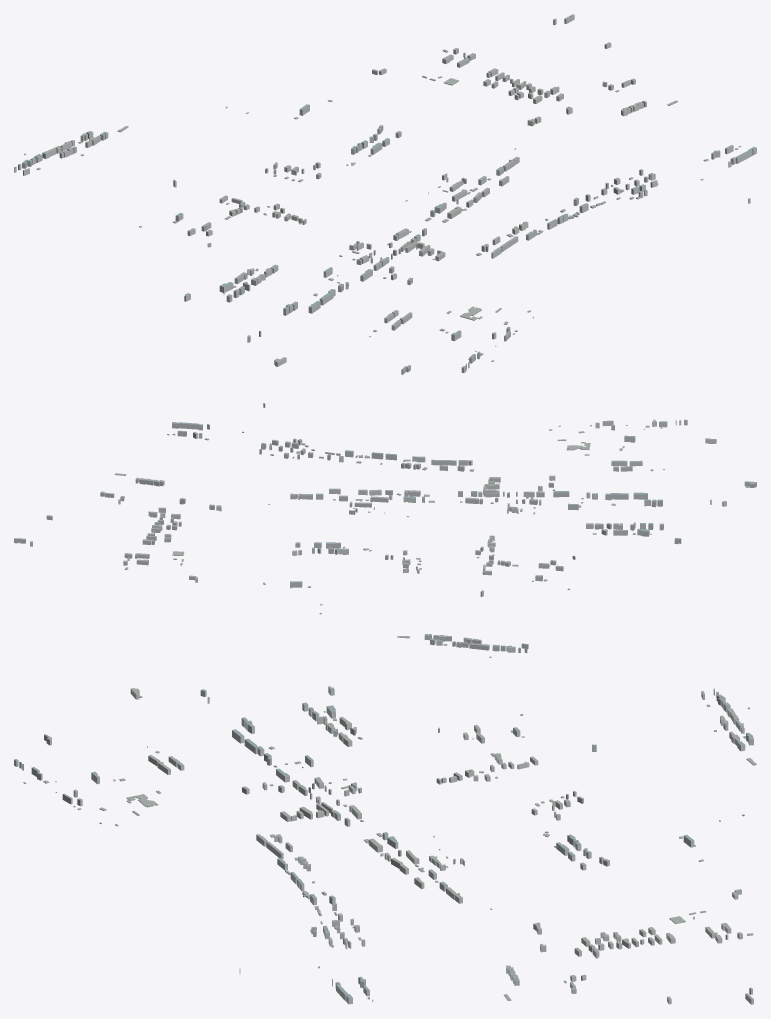
File: far.glb
3 views of the same model, one above another, from view 1: azimuth 30°, elevation 25°; view 2: azimuth 150°, elevation 25°; view 3: azimuth 270°, elevation 25° (orthographic). The views are drawn at different scales.
Bounding box in the file's own units: 2098 × 22.8 × 2109.
